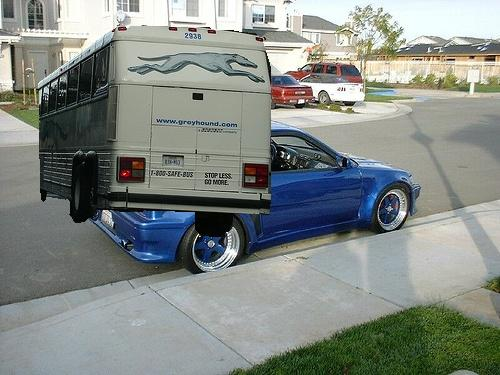tampered: (39, 24, 271, 237)
